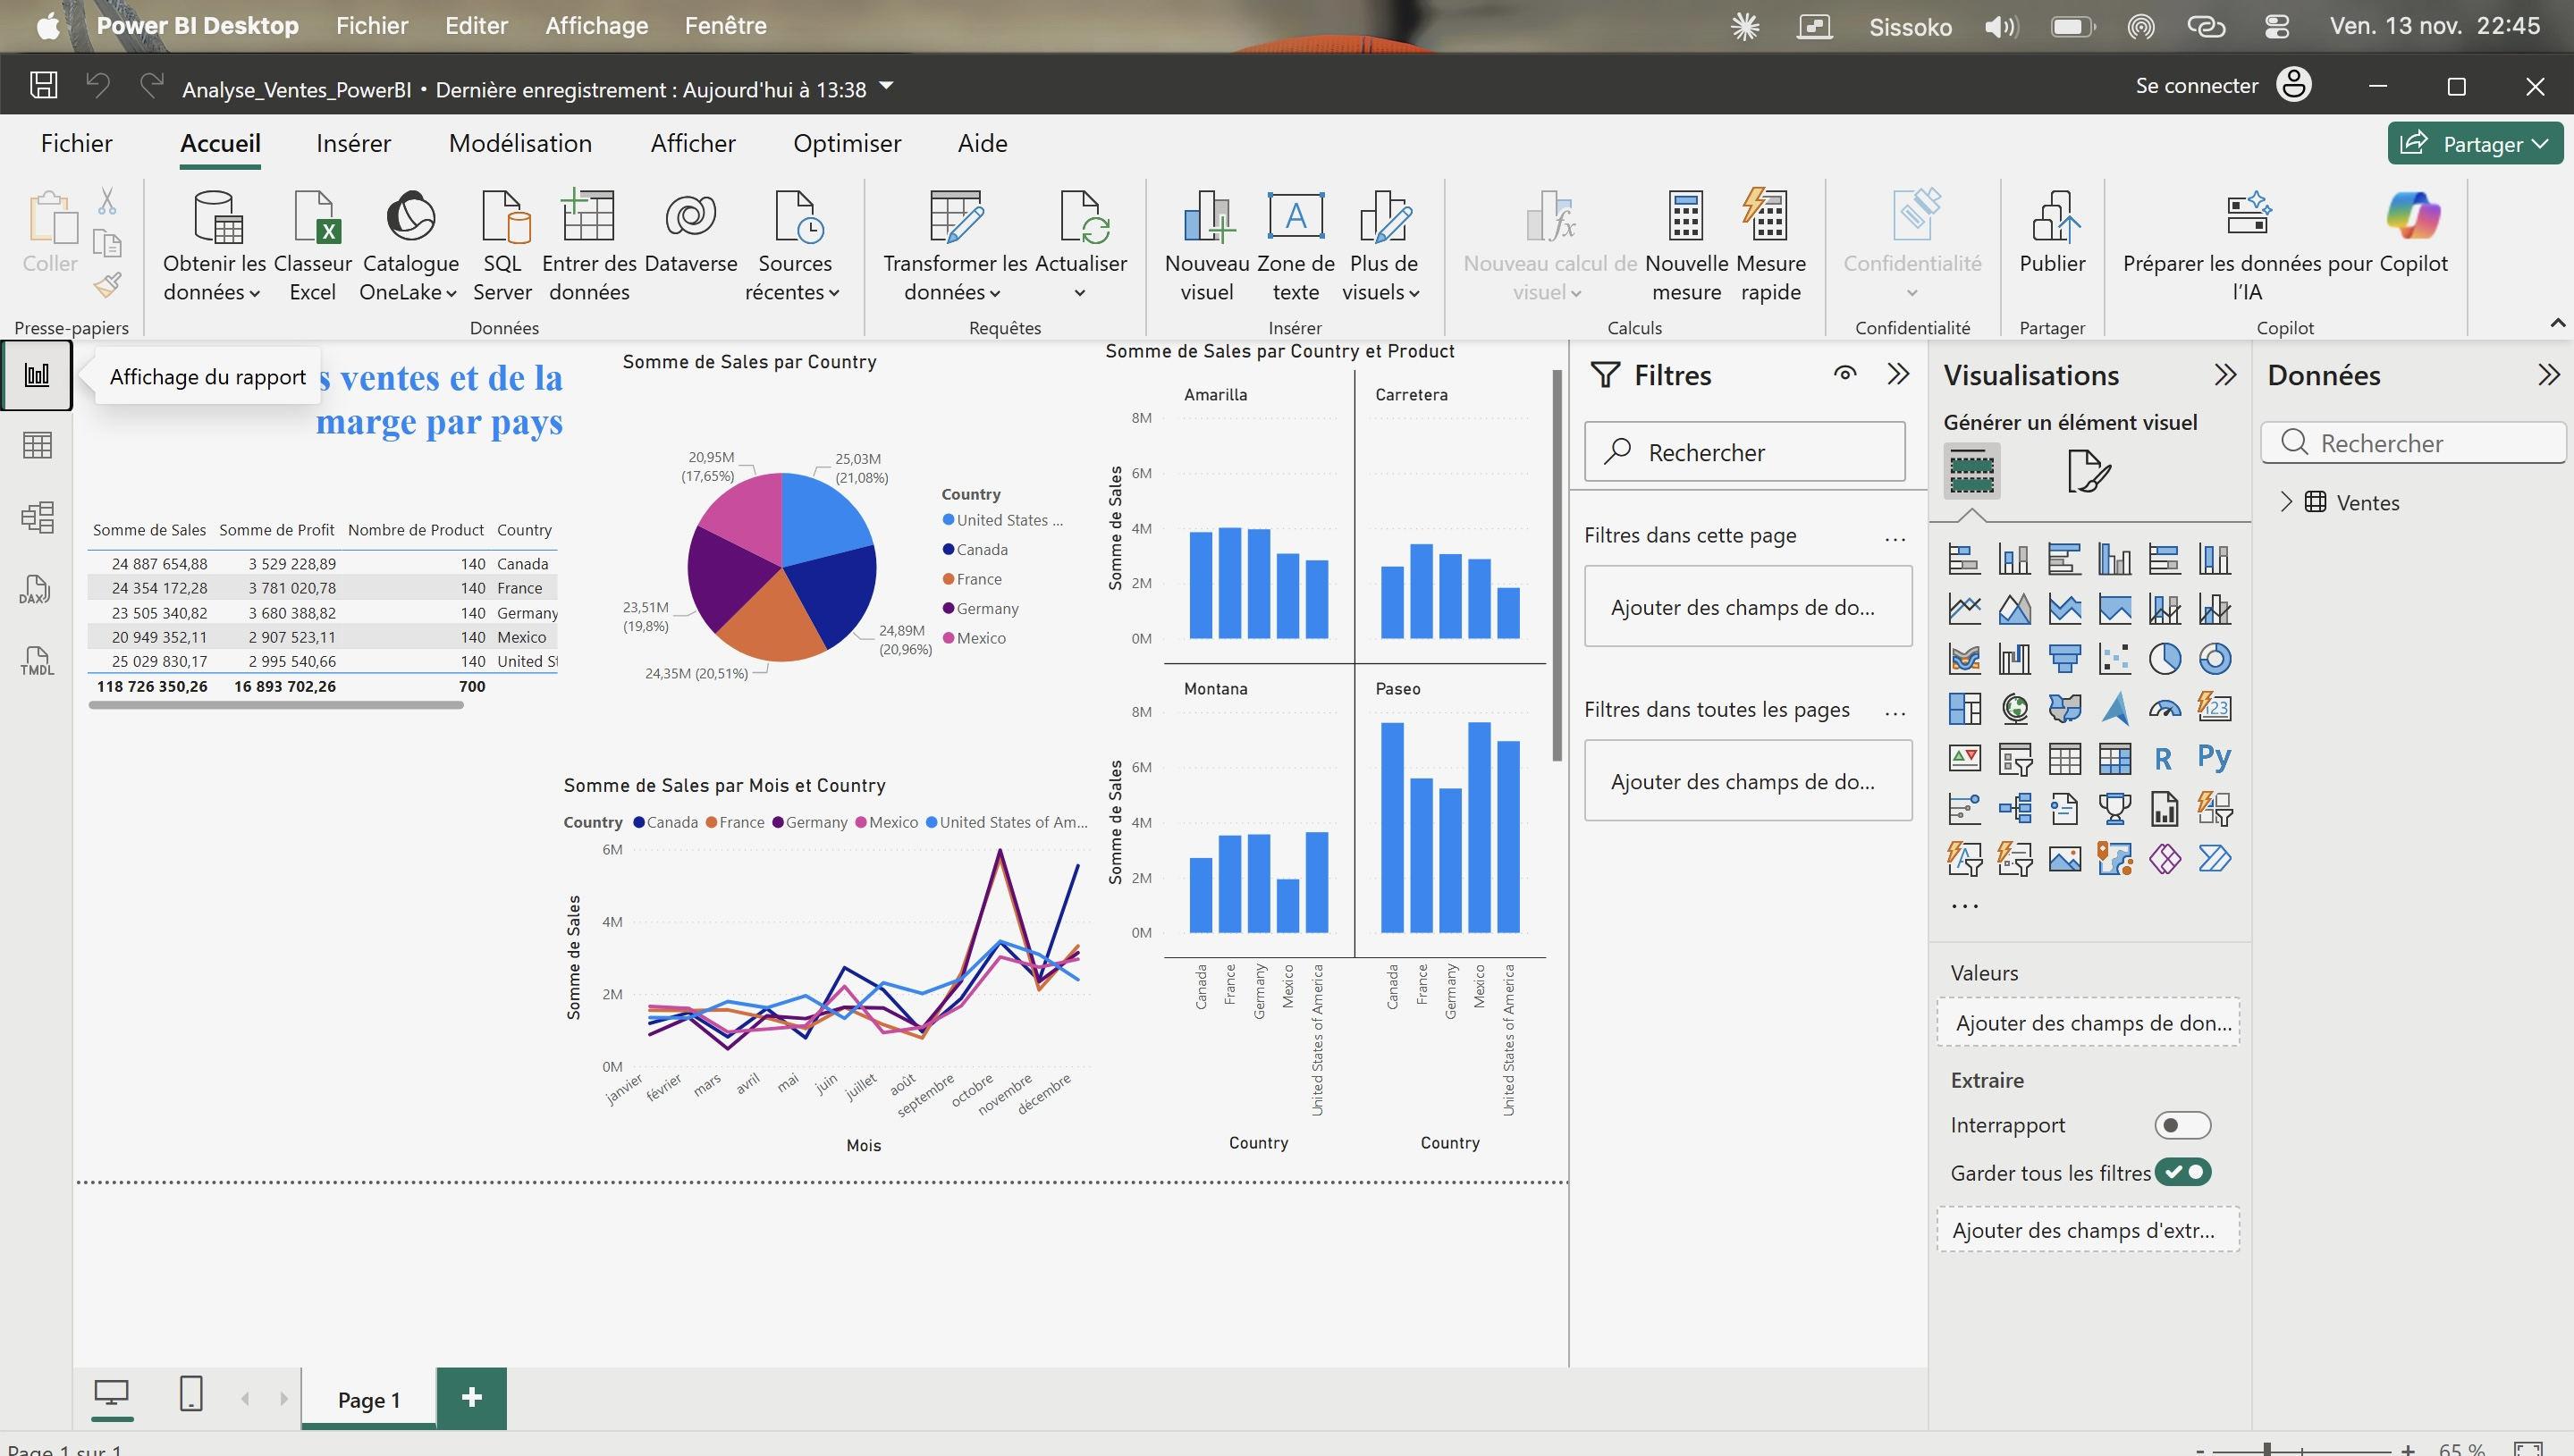

The dashboard page shown, as its layout file describes it:
{"tool":"powerbi","page":{"name":"Page 1","canvas":[1280,720],"ordinal":0},"visuals":[{"type":"clusteredColumnChart","fields":{"Category":["Ventes.Country"],"Y":["Sum(Ventes. Sales)"],"Rows":["Ventes.Product"]},"box":[878.9,0,401.1,701.9],"z":1},{"type":"pieChart","fields":{"Category":["Ventes.Country"],"Y":["Sum(Ventes. Sales)"]},"box":[465.3,9.4,401.1,350.9],"z":2},{"type":"tableEx","fields":{"Values":["Sum(Ventes. Sales)","Sum(Ventes.Profit)","Ventes.Product","Ventes.Country"]},"box":[6.3,147.3,413.6,175.5],"z":3},{"type":"lineChart","fields":{"Category":["Ventes.Date.Variation.Hiérarchie de dates.Mois","Ventes.Date.Variation.Hiérarchie de dates.Jour"],"Y":["Sum(Ventes. Sales)"],"Series":["Ventes.Country"]},"box":[415.2,371.3,463.7,330.6],"z":4},{"type":"textbox","box":[0,9.4,424.6,89.3],"z":6}]}

Visuals, with their boxes on the page's 1280x720 design canvas (x1, y1, x2, y2). These are canvas units, not pixel positions in the 2574x1456 screenshot, which may show the page scaled, cropped or inside an application window:
clusteredColumnChart - Ventes.Country x Sum(Ventes. Sales): 879,0,1280,702
pieChart - Ventes.Country x Sum(Ventes. Sales): 465,9,866,360
tableEx - Sum(Ventes. Sales) x Sum(Ventes.Profit): 6,147,420,323
lineChart - Ventes.Date.Variation.Hiérarchie de dates.Mois x Ventes.Date.Variation.Hiérarchie de dates.Jour: 415,371,879,702
textbox: 0,9,425,99
